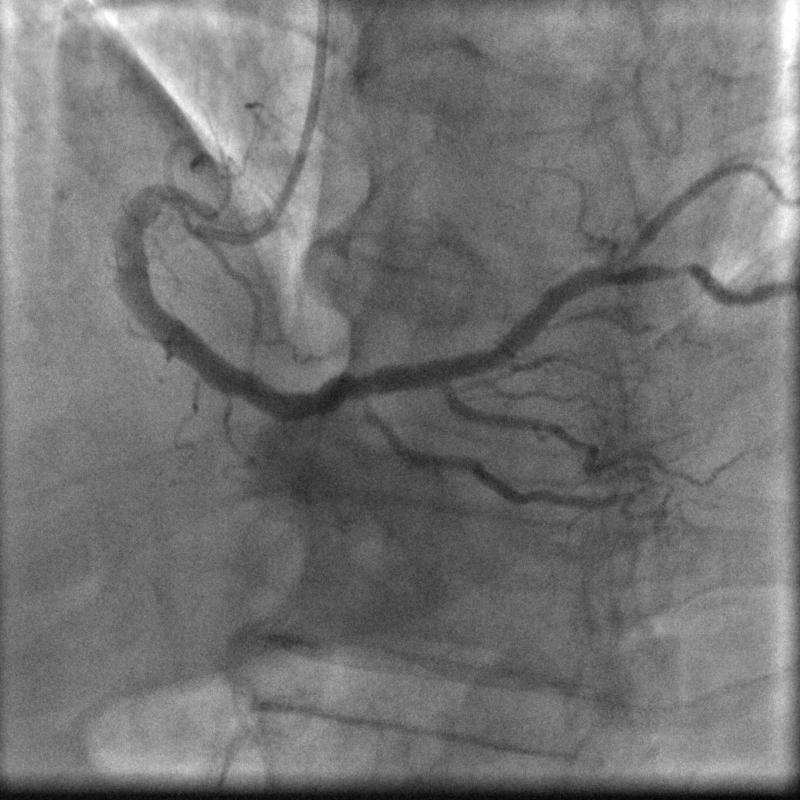Stenosis: (635, 256, 707, 284)
